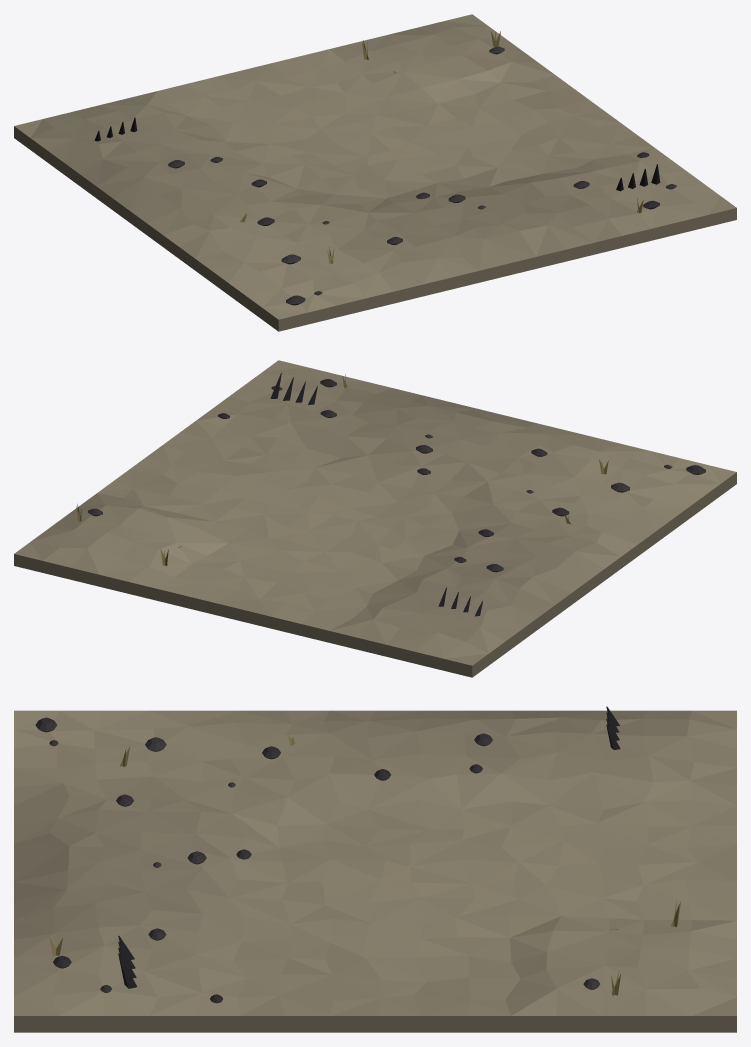
Rendered from CHUNK_glass_ash_desert__buried_aqueduct.glb.
The picture shows the model from 3 angles, top to bottom: view 1: azimuth 30°, elevation 25°; view 2: azimuth 150°, elevation 25°; view 3: azimuth 270°, elevation 25°; orthographic projection. The views are drawn at different scales.
Parts seen in each view (by area): view 1: CHUNK_glass_ash_desert__buried_aqueduct; view 2: CHUNK_glass_ash_desert__buried_aqueduct; view 3: CHUNK_glass_ash_desert__buried_aqueduct.
Boxes of the visible parts, bbox=[...] form: CHUNK_glass_ash_desert__buried_aqueduct: bbox=[14, 14, 736, 331]; CHUNK_glass_ash_desert__buried_aqueduct: bbox=[14, 360, 736, 677]; CHUNK_glass_ash_desert__buried_aqueduct: bbox=[14, 706, 736, 1032].
Bounding box in the file's own units: 8 × 0.6275 × 8.
